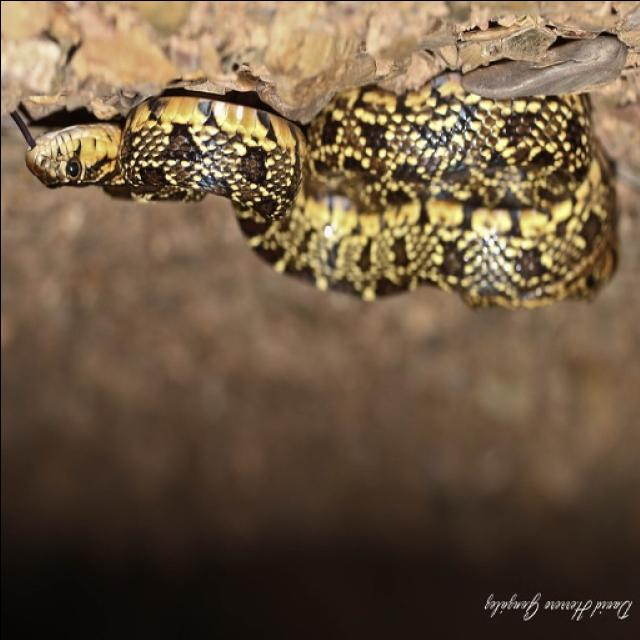snake: (0, 74, 630, 325)
